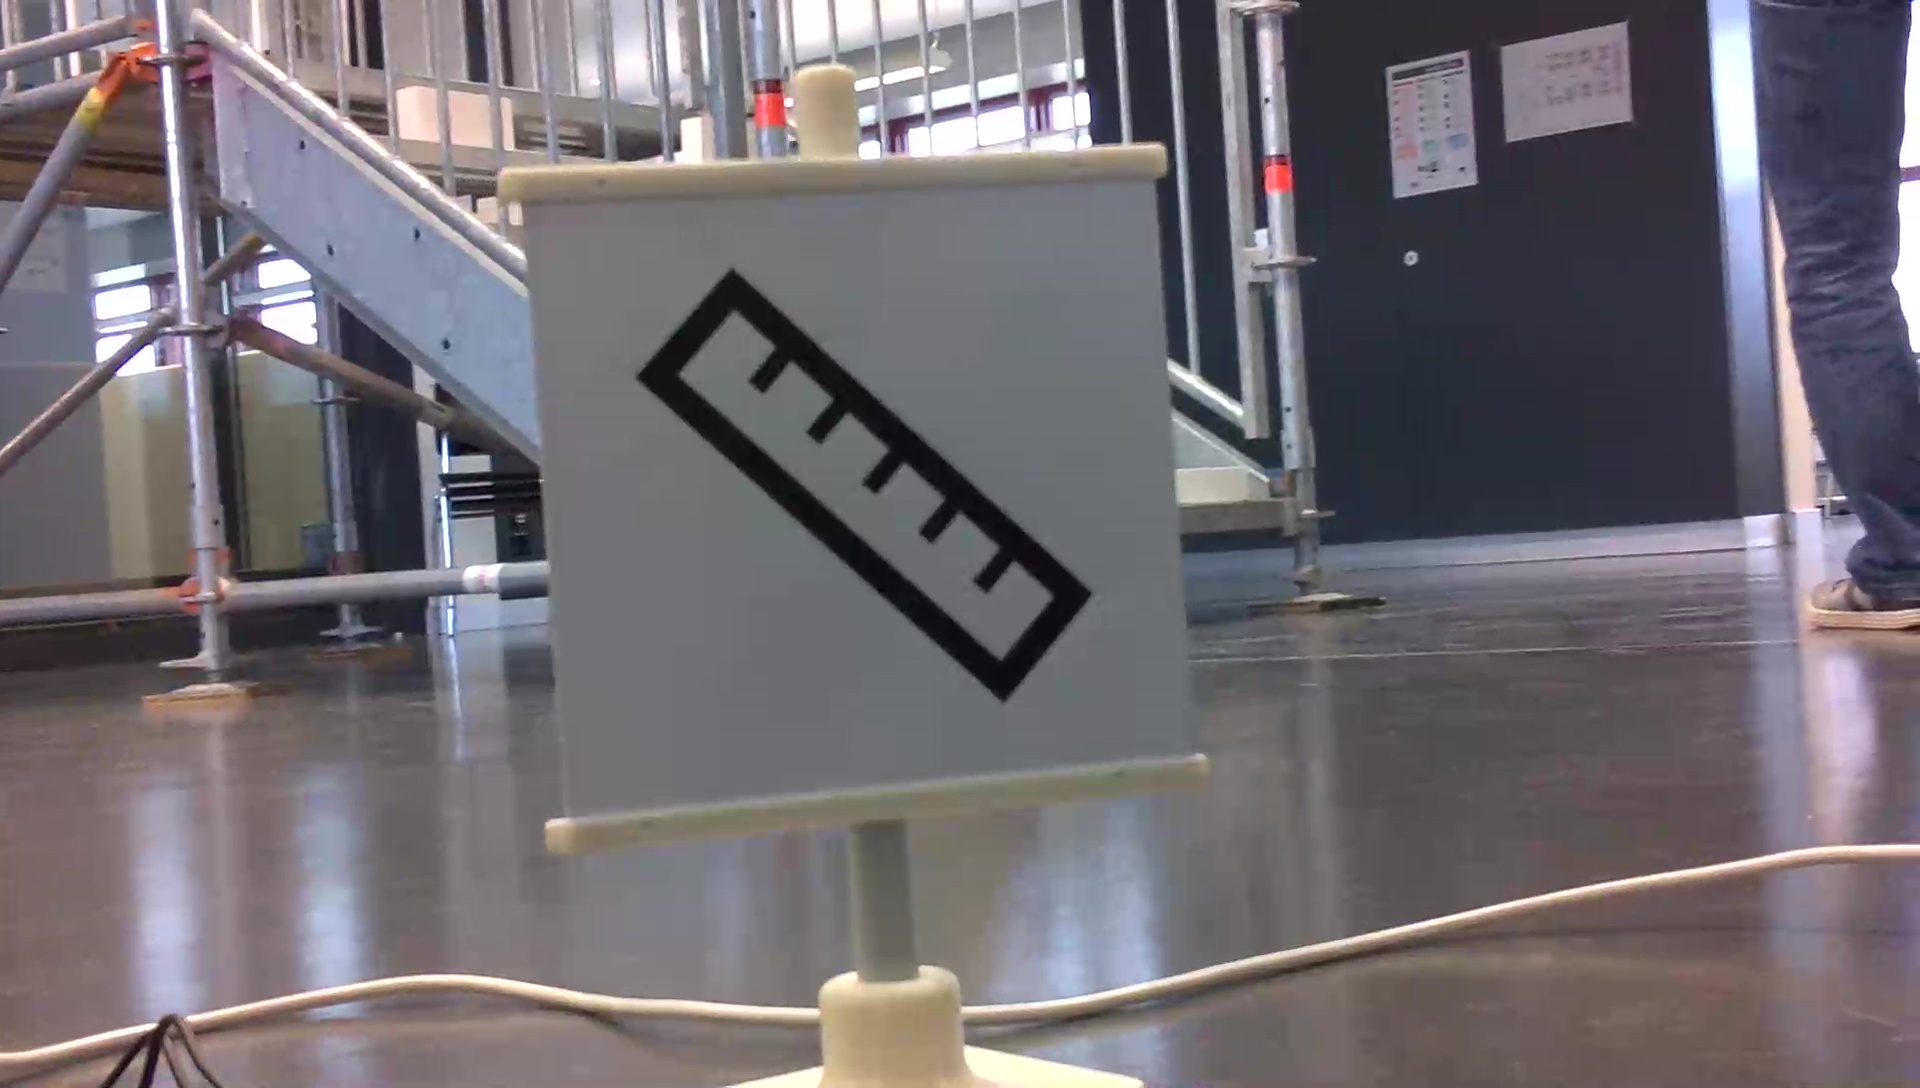ruler: (641, 266, 1112, 698)
